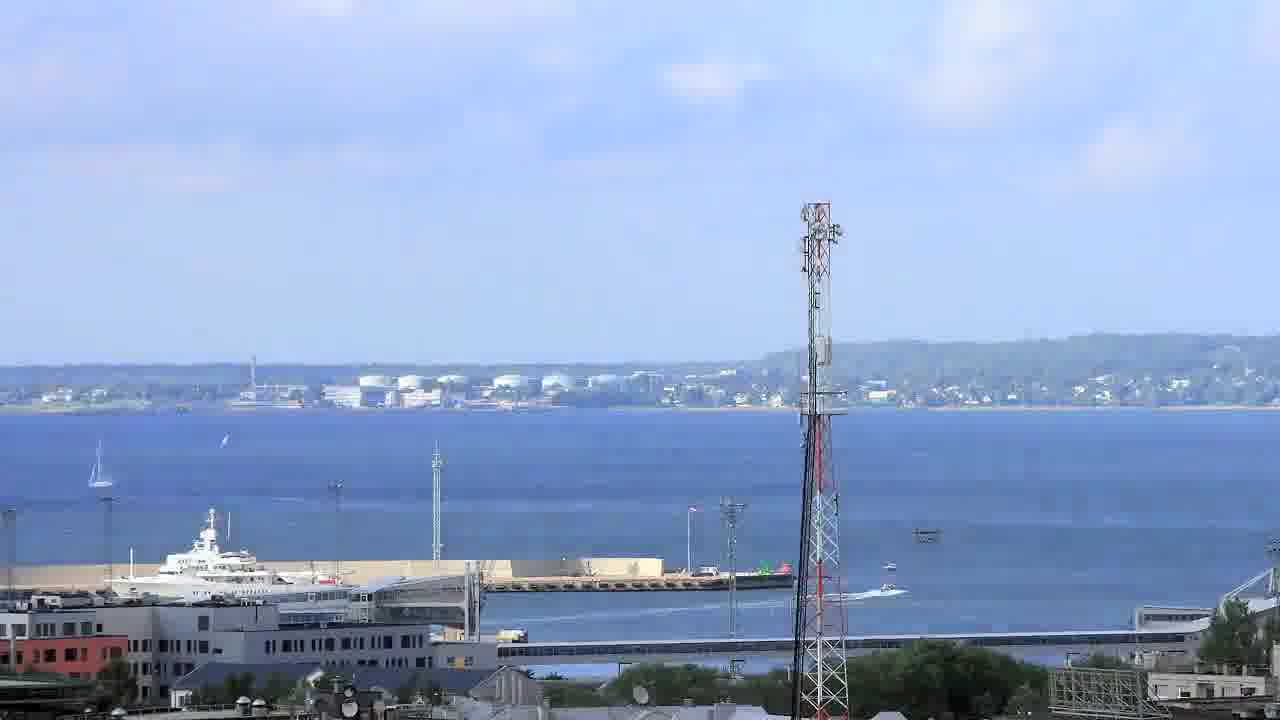type-2: (77, 430, 123, 501)
type-3: (96, 508, 381, 605)
type-4: (866, 555, 922, 604)
